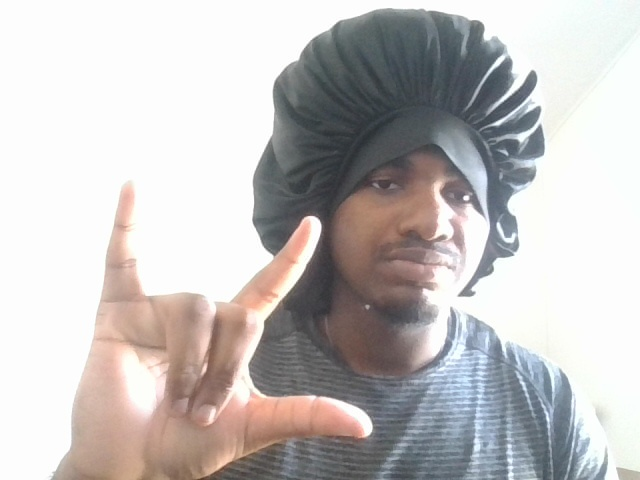I Love You: (56, 160, 375, 471)
